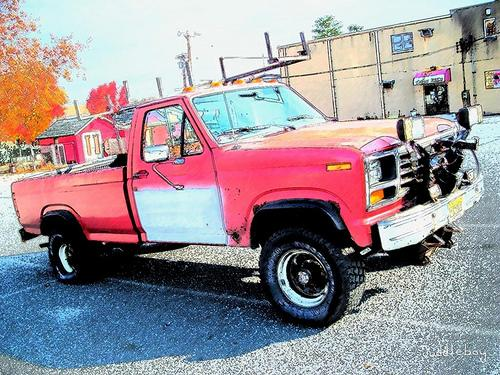truck: (10, 77, 485, 329)
